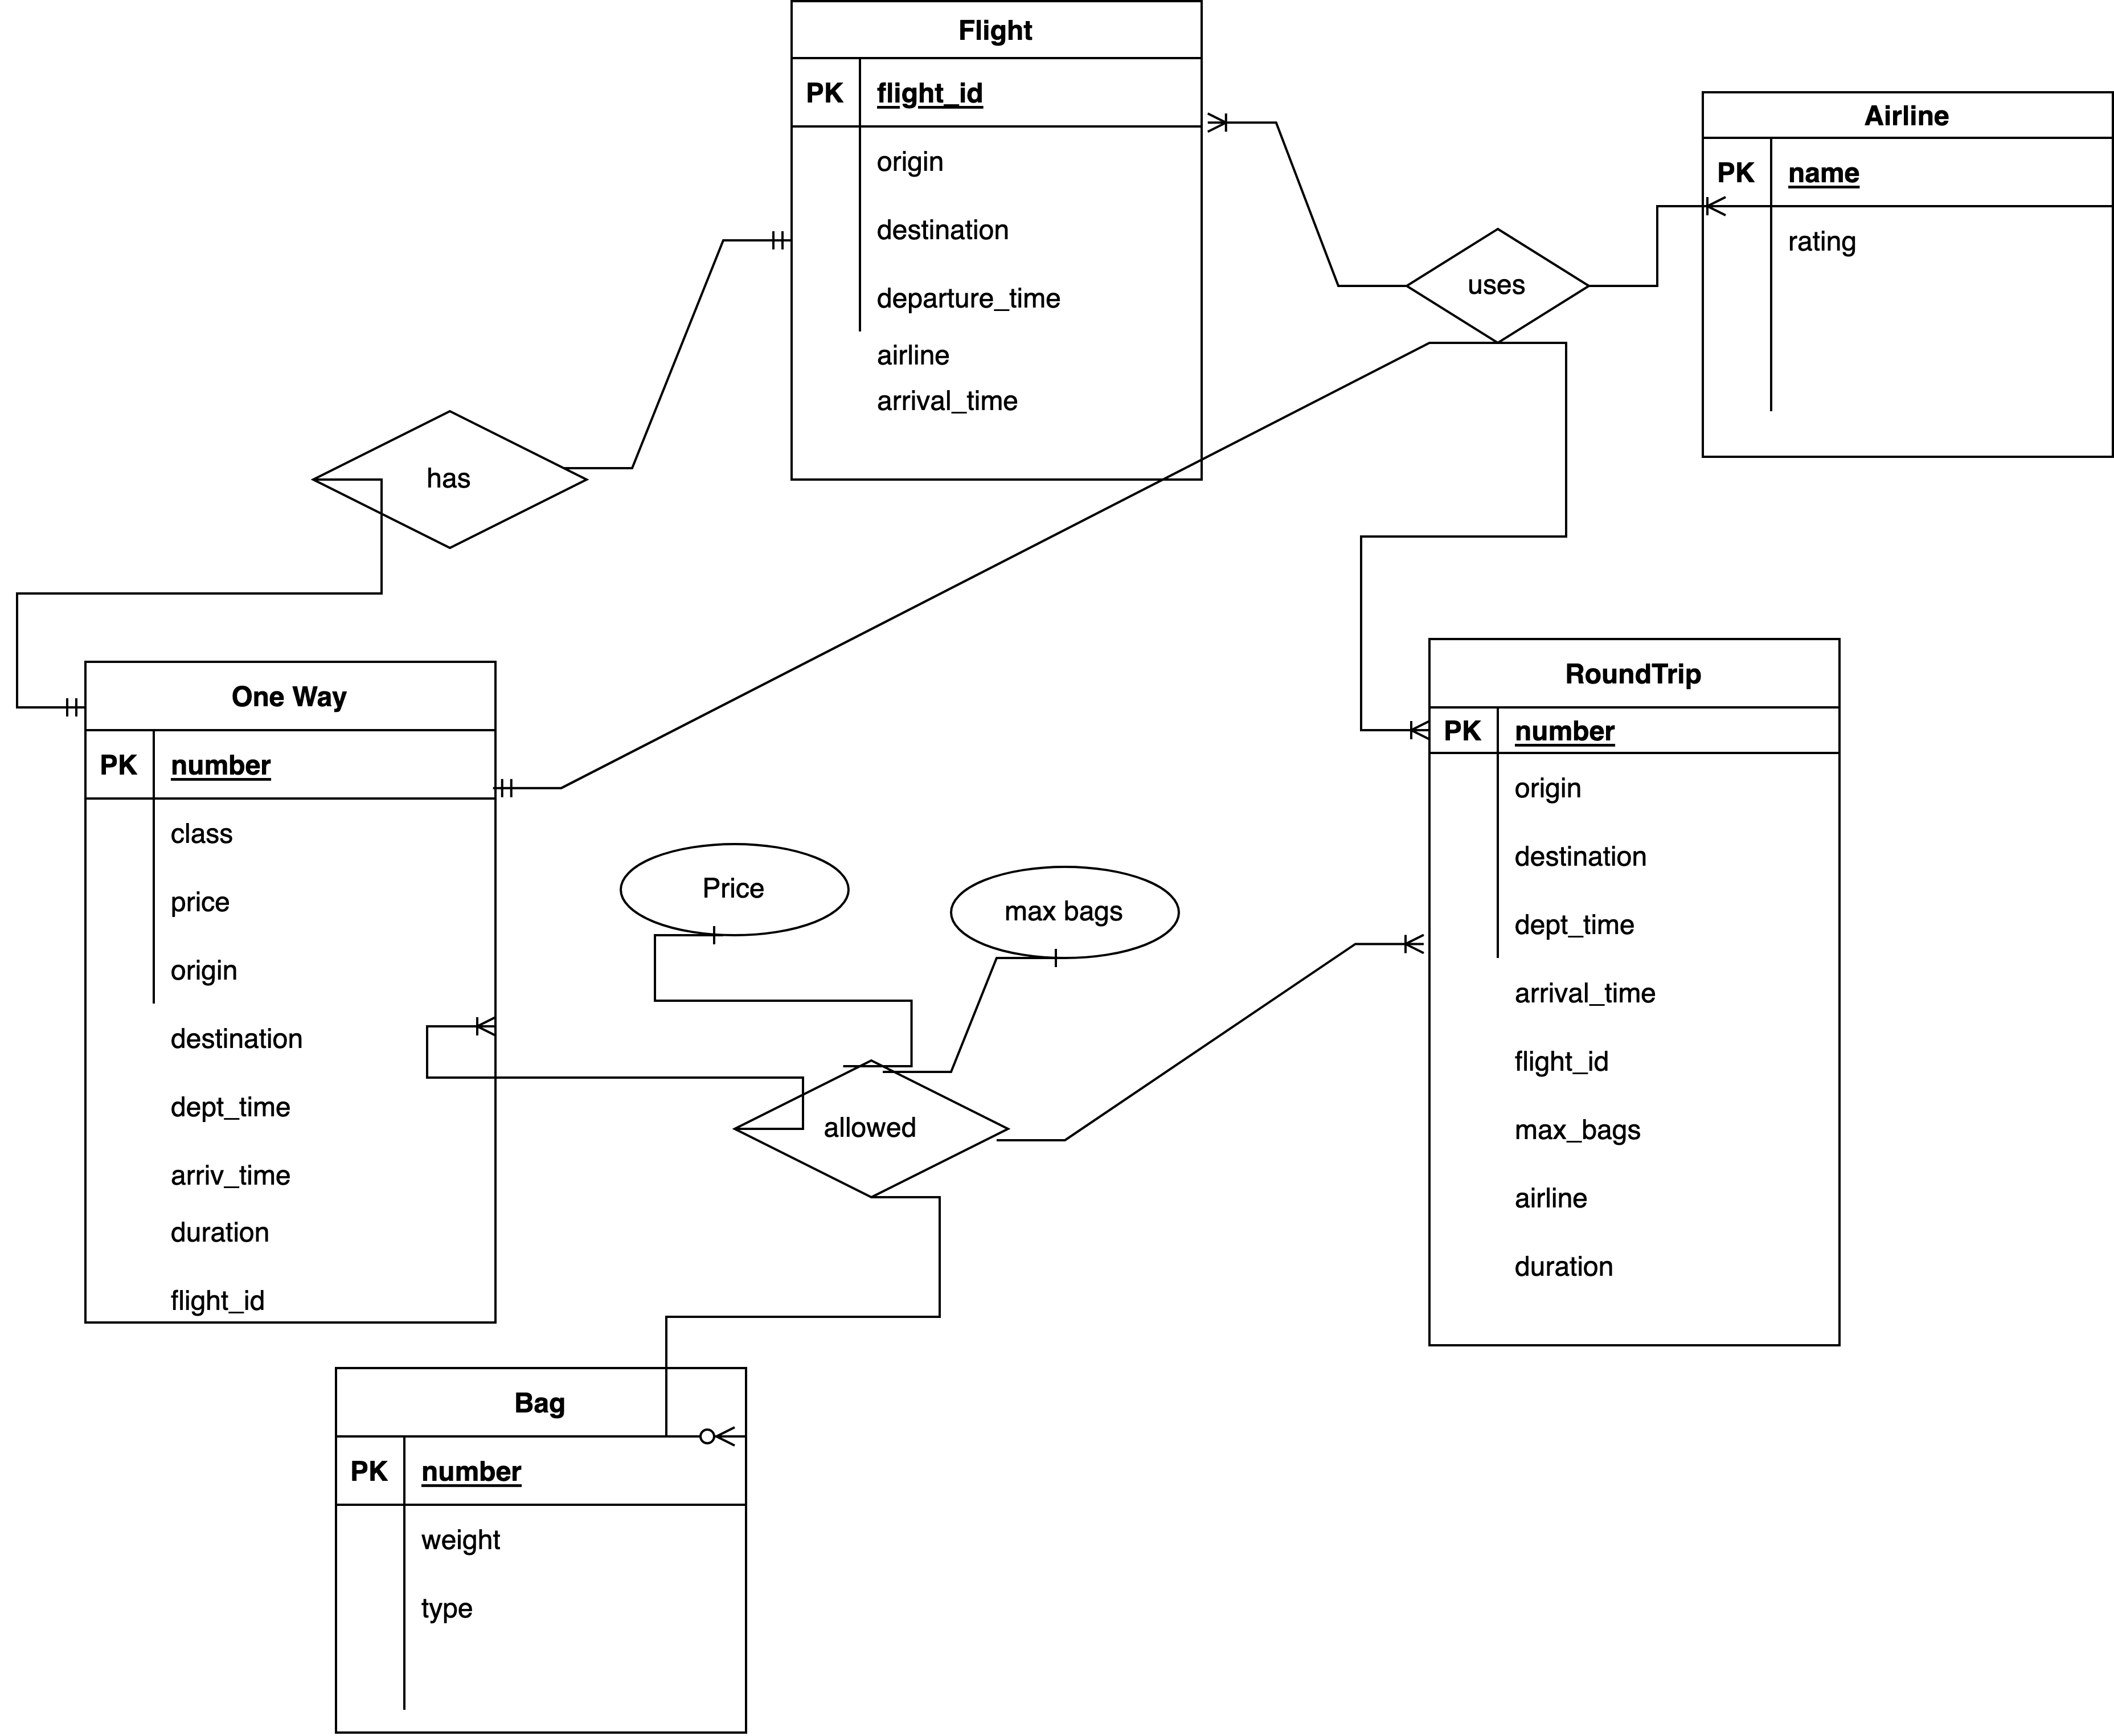entity: (1427, 639, 1845, 1346), (84, 662, 497, 1320), (787, 2, 1201, 481), (337, 1366, 746, 1736), (1701, 90, 2114, 455)
many: (1682, 176, 1735, 233), (1201, 100, 1257, 153), (1364, 918, 1426, 965), (1368, 707, 1429, 755), (685, 1413, 746, 1453), (444, 1002, 499, 1044)
one: (734, 212, 788, 269), (26, 686, 83, 721), (688, 916, 744, 950), (1032, 936, 1078, 976), (499, 774, 543, 806)
rel: (316, 409, 586, 548), (734, 1060, 1011, 1195), (1408, 230, 1589, 344)
rel_attr: (618, 841, 850, 941), (952, 869, 1178, 957)
